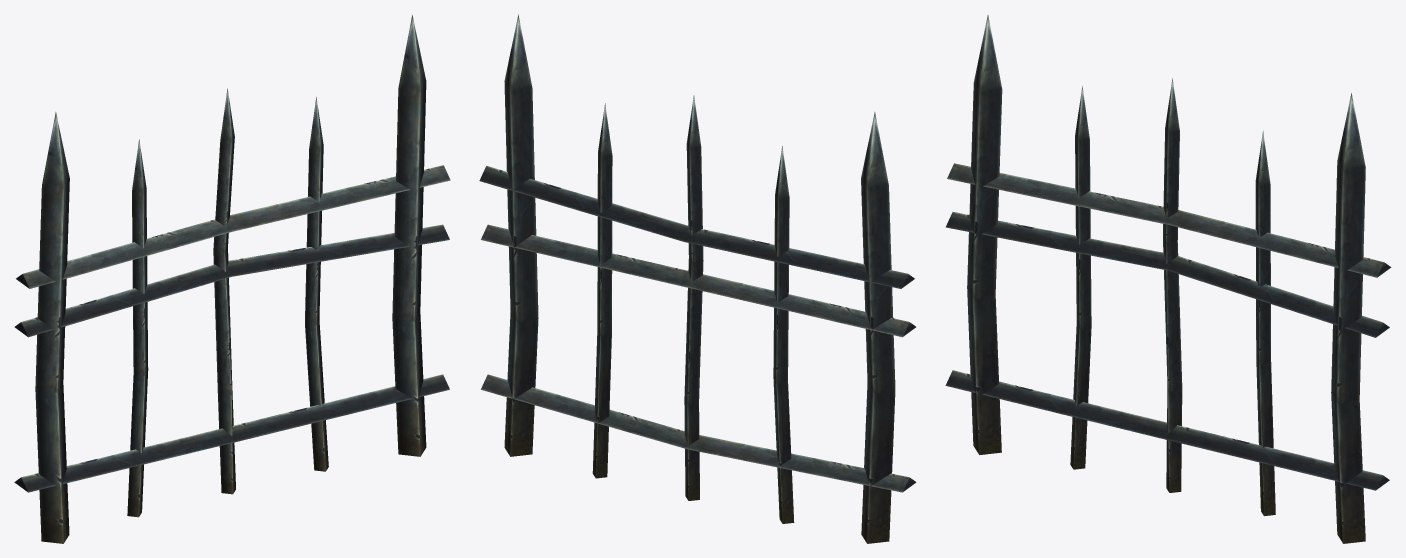
File: C_zhalan001.fbx
3 views of the same model, side by side, from view 1: azimuth 30°, elevation 25°; view 2: azimuth 150°, elevation 25°; view 3: azimuth 330°, elevation 25° (orthographic).
Parts seen in each view (by area): view 1: C_zhalan001; view 2: C_zhalan001; view 3: C_zhalan001.
Boxes of the visible parts, x1,y1,x2,y2 form: C_zhalan001: (14,15,450,543); C_zhalan001: (479,14,916,543); C_zhalan001: (945,15,1391,543).
Size of the model in its own units: 233 by 230 by 21.15.
